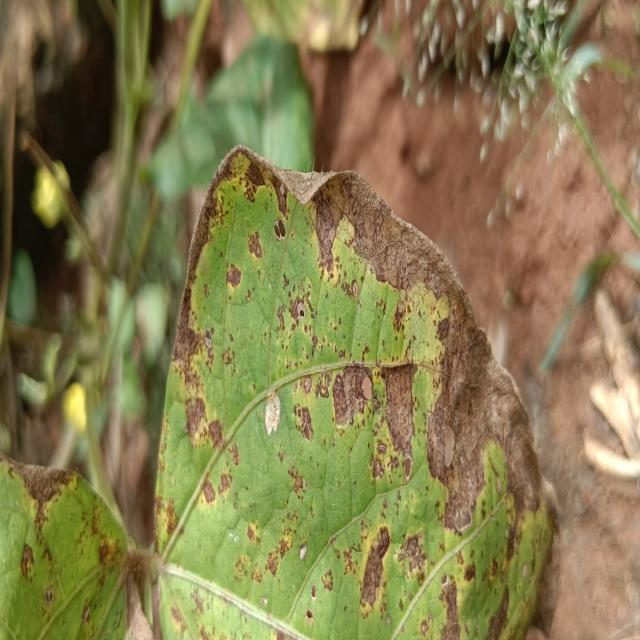Black gram_leaf spot: (149, 133, 567, 640), (0, 452, 137, 640)
